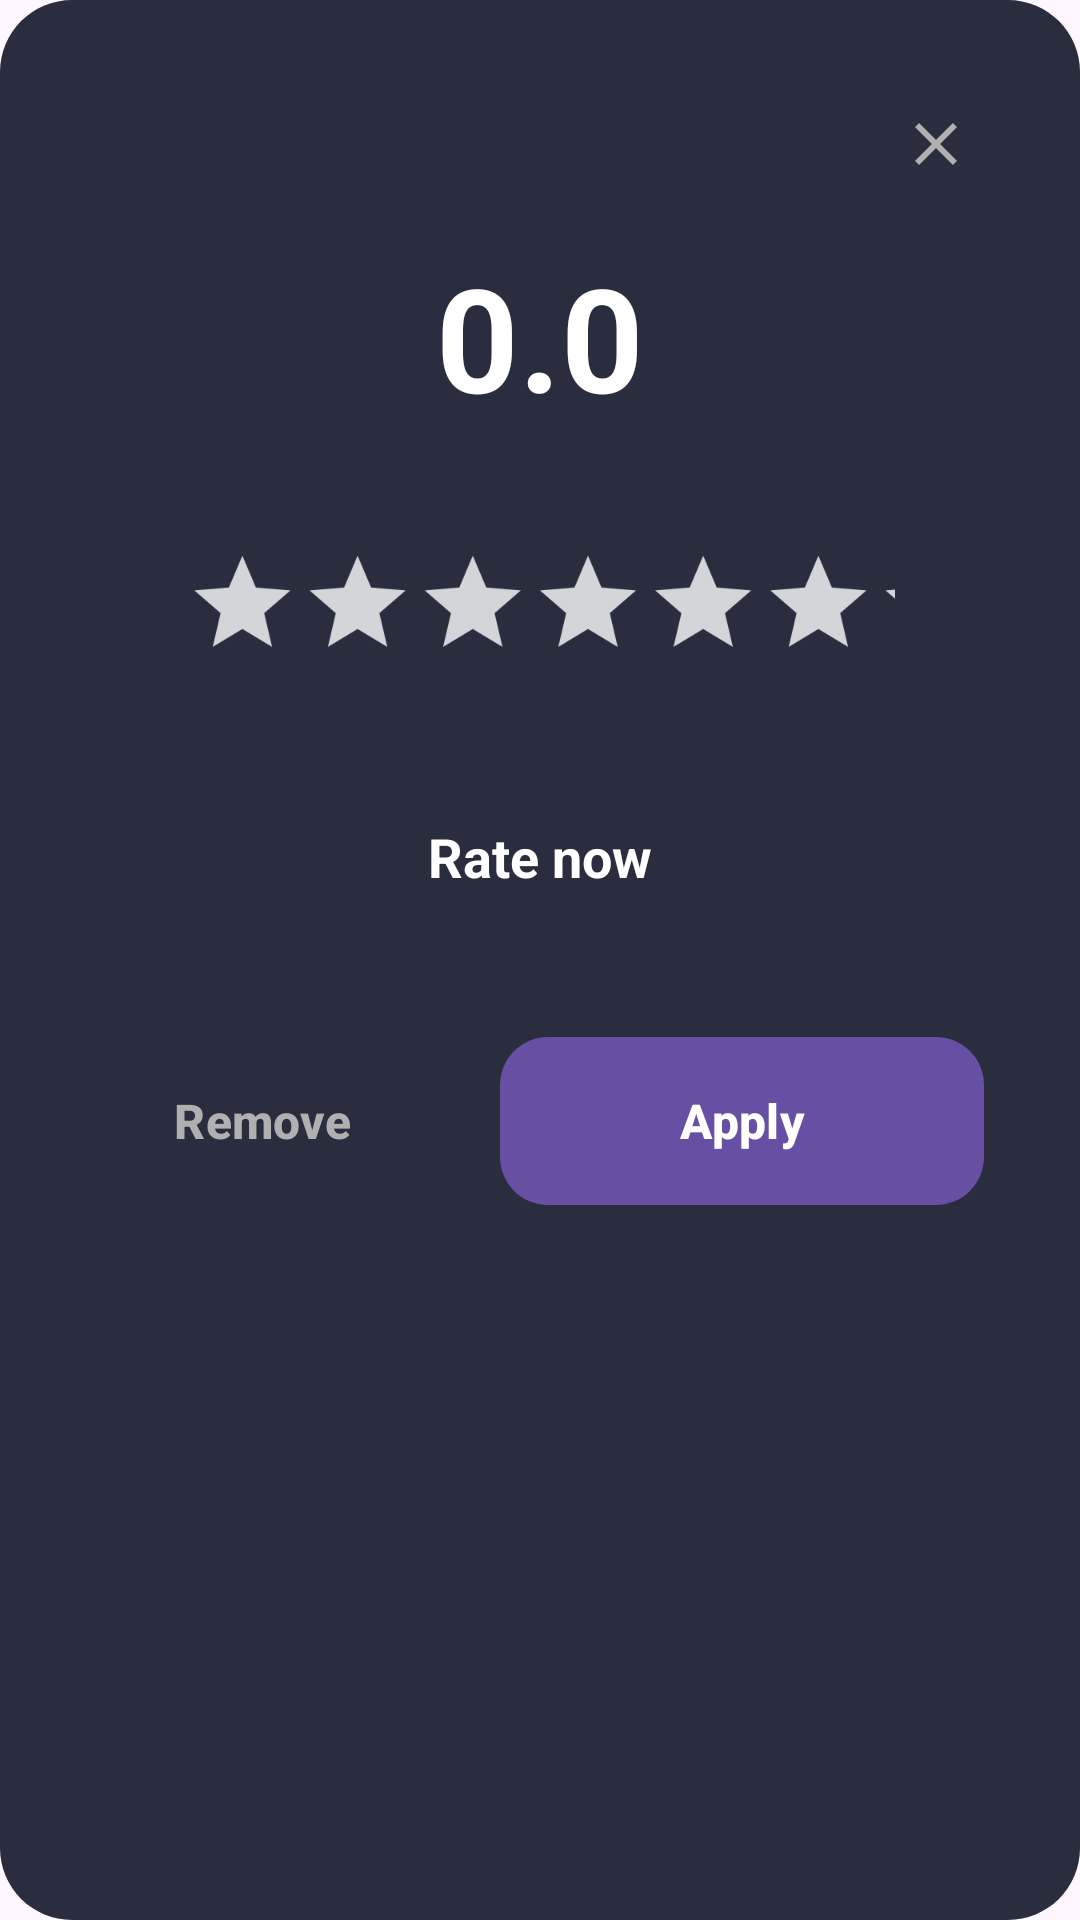

Locate icon controls on the screen. Image size 1080 × 1920, boxes as Rect(x1, y1, x2, y2).
Close: Rect(915, 123, 957, 165)
